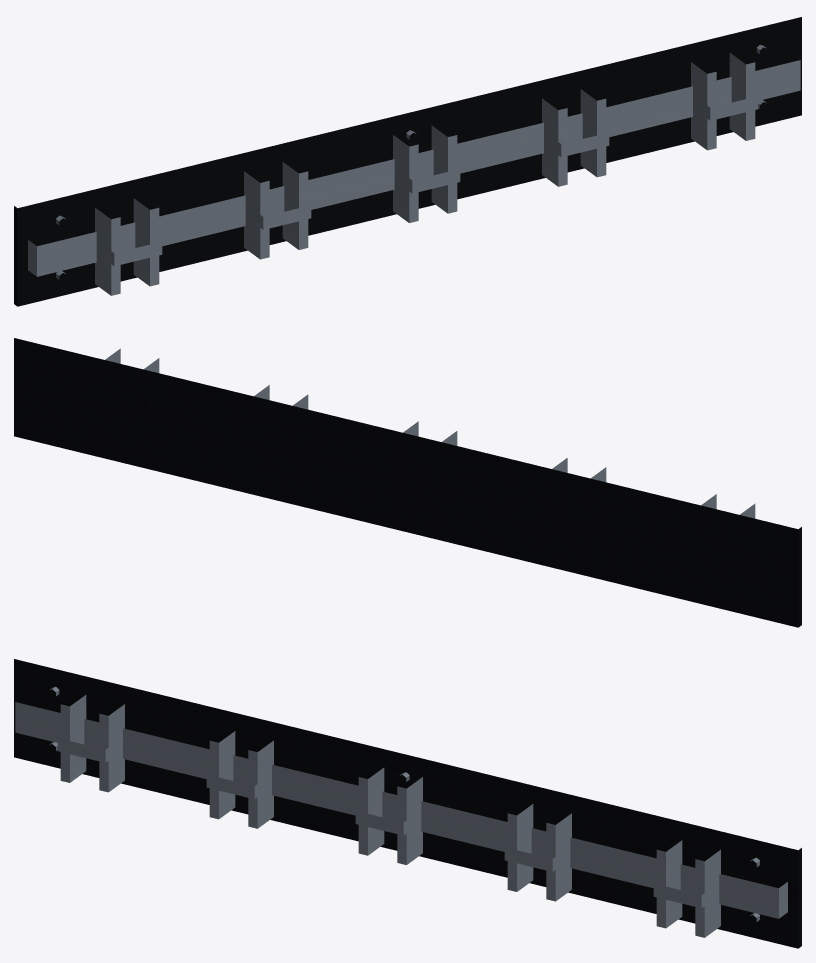
The model's file is tt_climb_hook_rail.glb.
3 renders of one model, top to bottom at view 1: azimuth 30°, elevation 25°; view 2: azimuth 150°, elevation 25°; view 3: azimuth 330°, elevation 25°, orthographic.
Visible parts, largest first — view 1: Back_Plate, H_Pegs, Rail; view 2: Back_Plate, H_Pegs; view 3: Back_Plate, H_Pegs, Rail.
Part boxes in pixels (left/top/right/bottom): Back_Plate: left=14, top=17, right=801, bottom=306; H_Pegs: left=95, top=53, right=758, bottom=295; Rail: left=28, top=60, right=800, bottom=276; Back_Plate: left=14, top=338, right=801, bottom=627; H_Pegs: left=105, top=348, right=755, bottom=518; Back_Plate: left=14, top=659, right=801, bottom=948; H_Pegs: left=57, top=695, right=720, bottom=937; Rail: left=15, top=702, right=787, bottom=918.
Size of what is drawn, in the model's own units: 1.5 by 0.18 by 0.1.
3 materials, 3 textured.
